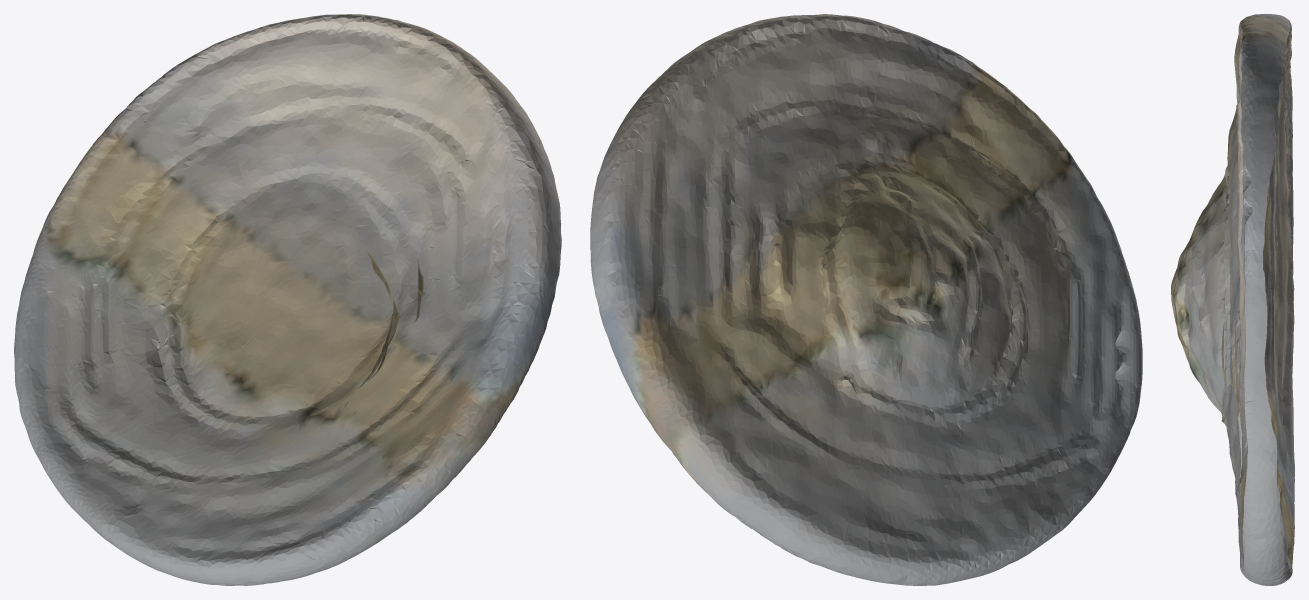
The model's file is moeda.glb.
3 renders of one model, left to right at view 1: azimuth 30°, elevation 25°; view 2: azimuth 150°, elevation 25°; view 3: azimuth 270°, elevation 25°, orthographic. The views are drawn at different scales.
Visible parts, largest first — view 1: geometry_0; view 2: geometry_0; view 3: geometry_0.
Part boxes in pixels (box(x1,y1,x2,y2)): geometry_0: box(14, 14, 561, 585); geometry_0: box(590, 14, 1142, 585); geometry_0: box(1171, 14, 1294, 585).
Size of the model in its own units: 1 by 0.9768 by 0.212.
